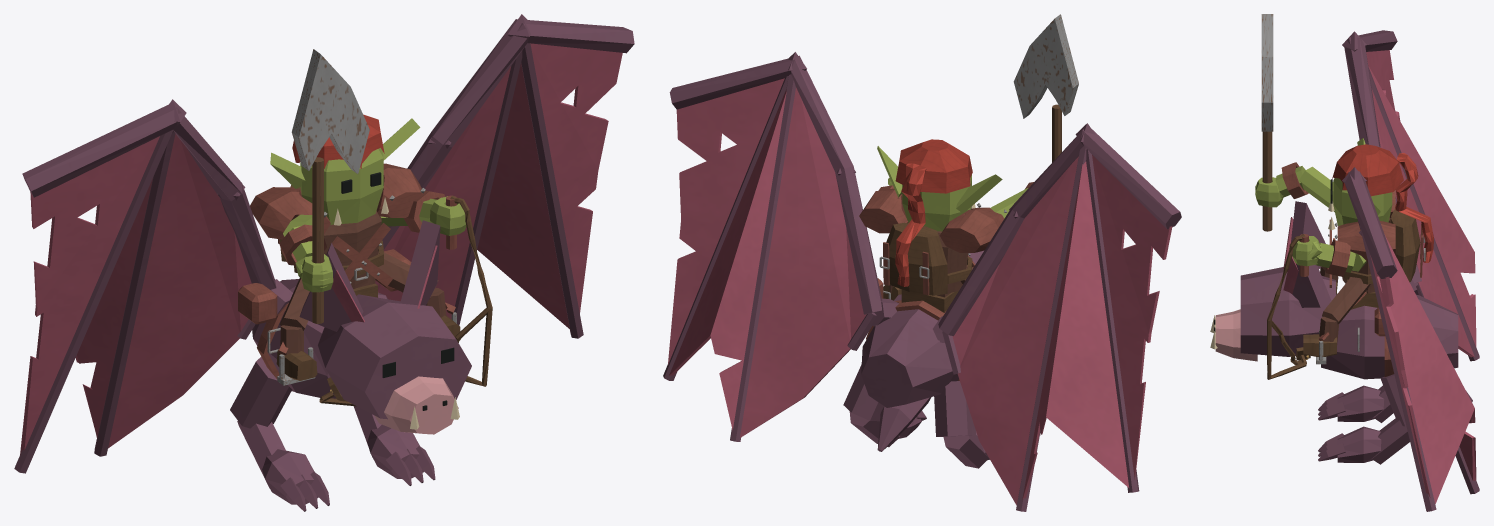
File: host_15.glb
3 renders of one model, left to right at view 1: azimuth 30°, elevation 25°; view 2: azimuth 150°, elevation 25°; view 3: azimuth 270°, elevation 25°, orthographic. The views are drawn at different scales.
Parts seen in each view (by area): view 1: Bat source connected muzzle, skull, native limbs and membran, Rider one connected body, skull, ears, two arms, compact pal, Rider RIGHT source weapon broad asymmetric source axe, Rider actual convex three-plane source pauldron 1, Rider actual convex three-plane source pauldron -1, Rider RIGHT source weapon actual wood handle, Rider real shaped source torso clothing shell, Rider compact source saddle pouch 1, Rider connected bridle rein 1, Rider actual source angular red hair volume, Rider connected bridle rein -1, Rider fitted source crossed chest leather 1 (+1 smaller); view 2: Bat source connected muzzle, skull, native limbs and membran, Rider RIGHT source weapon broad asymmetric source axe, Rider one connected body, skull, ears, two arms, compact pal, Rider actual source angular red hair volume, Rider actual source broad rear leather pack, Rider actual convex three-plane source pauldron 1, V4 ONE actual long red braided ponytail, Rider actual convex three-plane source pauldron -1, Rider real shaped source torso clothing shell, Source small curved seat following actual bat back; view 3: Bat source connected muzzle, skull, native limbs and membran, Rider one connected body, skull, ears, two arms, compact pal, Rider actual source angular red hair volume, Rider RIGHT source weapon broad asymmetric source axe, Rider actual source broad rear leather pack, V4 ONE actual long red braided ponytail, Rider actual convex three-plane source pauldron -1, Rider RIGHT source weapon actual wood handle, Rider connected bridle rein -1, Rider LEFT actual open sleeve cuff, Rider connected bridle rein 1, Rider RIGHT actual open sleeve cuff (+1 smaller).
Boxes of the visible parts, box(x1,y1,x2,y2) form: Bat source connected muzzle, skull, native limbs and membran: box(14, 14, 634, 511); Rider one connected body, skull, ears, two arms, compact pal: box(270, 118, 466, 380); Rider RIGHT source weapon broad asymmetric source axe: box(291, 49, 369, 173); Rider actual convex three-plane source pauldron 1: box(250, 187, 330, 239); Rider actual convex three-plane source pauldron -1: box(377, 163, 422, 217); Rider RIGHT source weapon actual wood handle: box(312, 157, 323, 323); Rider real shaped source torso clothing shell: box(324, 210, 381, 288); Rider compact source saddle pouch 1: box(238, 283, 277, 324); Rider connected bridle rein 1: box(319, 195, 492, 406); Rider actual source angular red hair volume: box(292, 114, 384, 168); Rider connected bridle rein -1: box(465, 273, 492, 386); Rider fitted source crossed chest leather 1: box(332, 236, 392, 286); Bat source connected muzzle, skull, native limbs and membran: box(663, 52, 1181, 511); Rider RIGHT source weapon broad asymmetric source axe: box(1013, 14, 1078, 118); Rider one connected body, skull, ears, two arms, compact pal: box(877, 146, 1028, 300); Rider actual source angular red hair volume: box(895, 139, 972, 193); Rider actual source broad rear leather pack: box(886, 222, 947, 295); Rider actual convex three-plane source pauldron 1: box(939, 207, 1004, 252); V4 ONE actual long red braided ponytail: box(895, 163, 926, 286); Rider actual convex three-plane source pauldron -1: box(859, 188, 908, 233); Rider real shaped source torso clothing shell: box(906, 217, 968, 293); Source small curved seat following actual bat back: box(901, 289, 958, 312); Bat source connected muzzle, skull, native limbs and membran: box(1215, 30, 1479, 511); Rider one connected body, skull, ears, two arms, compact pal: box(1255, 138, 1392, 356); Rider actual source angular red hair volume: box(1332, 144, 1403, 196); Rider RIGHT source weapon broad asymmetric source axe: box(1261, 14, 1273, 131); Rider actual source broad rear leather pack: box(1390, 209, 1420, 282); V4 ONE actual long red braided ponytail: box(1395, 153, 1433, 262); Rider actual convex three-plane source pauldron -1: box(1337, 221, 1395, 261); Rider RIGHT source weapon actual wood handle: box(1262, 131, 1272, 231); Rider connected bridle rein -1: box(1267, 294, 1306, 379); Rider LEFT actual open sleeve cuff: box(1325, 240, 1350, 276); Rider connected bridle rein 1: box(1271, 234, 1305, 365); Rider RIGHT actual open sleeve cuff: box(1281, 162, 1308, 198).
Bounding box in the file's own units: 5.12 × 3.99 × 2.47.
27 materials, 25 textured.
